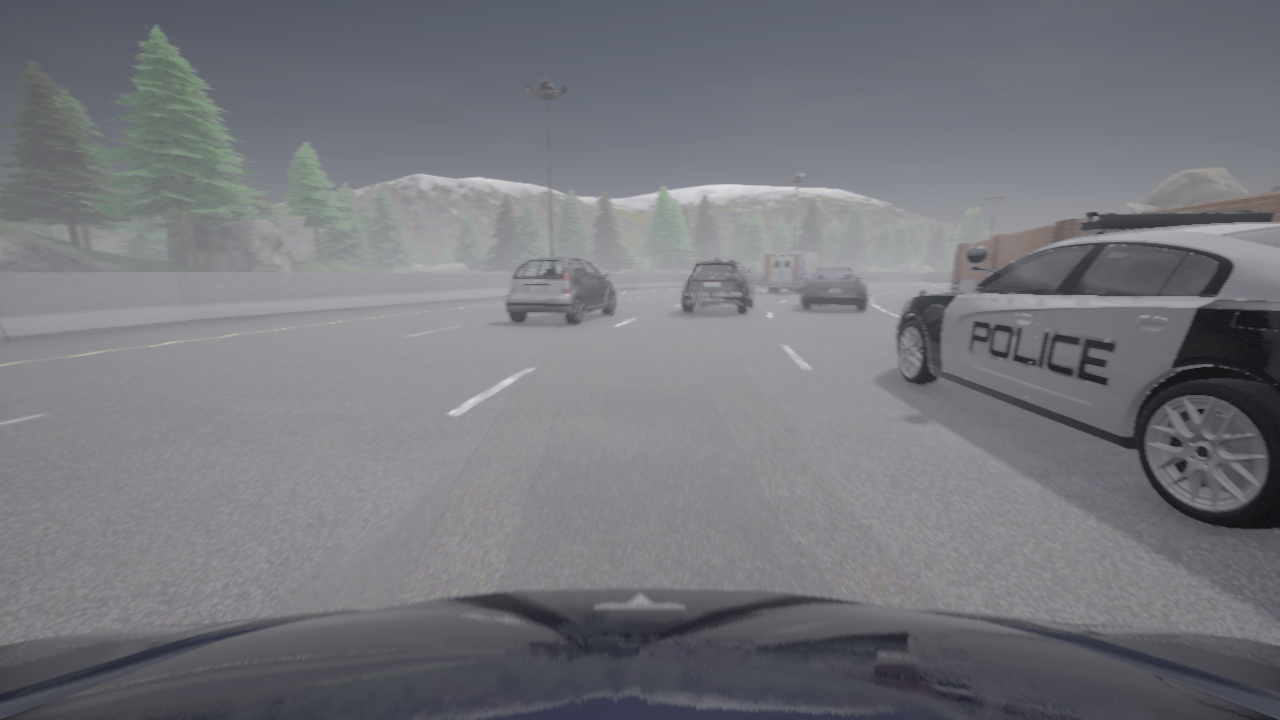cyclist: (0, 588, 1279, 719), (896, 210, 1279, 529), (505, 257, 616, 324), (682, 258, 753, 314), (801, 268, 867, 310), (761, 251, 821, 292), (744, 268, 762, 285)
